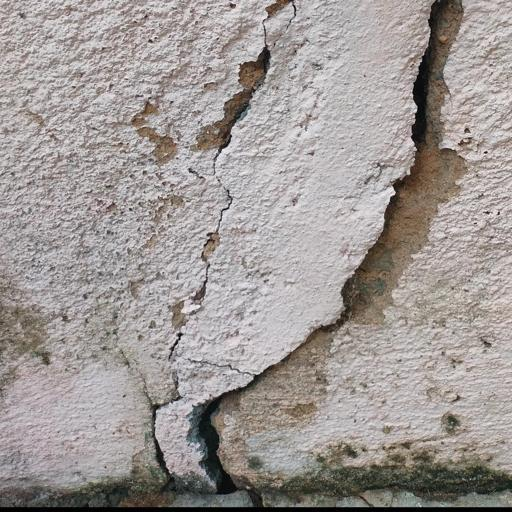major_crack: (147, 0, 486, 502)
